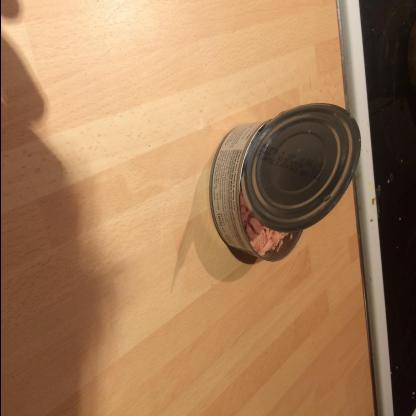metal: (209, 104, 361, 264)
